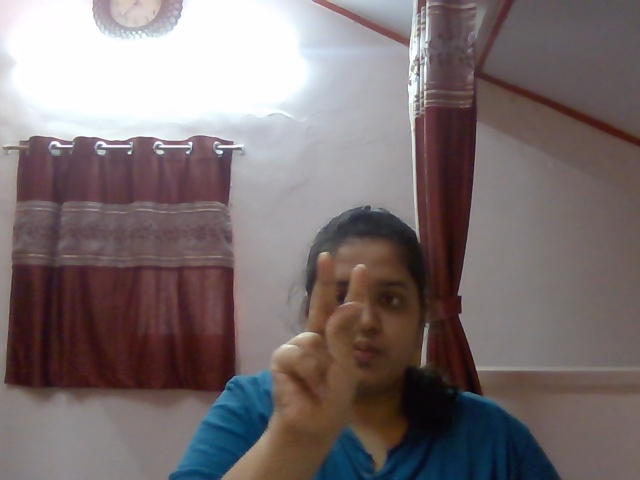k: (261, 245, 373, 426)
